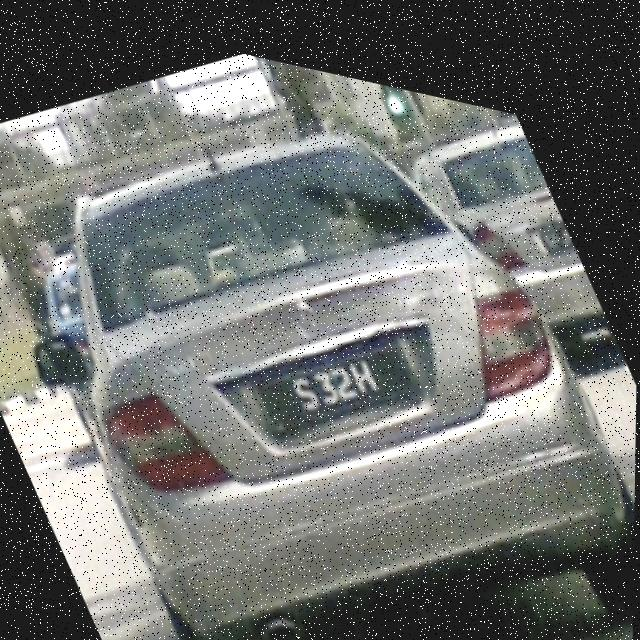license_plate: (248, 286, 434, 459)
